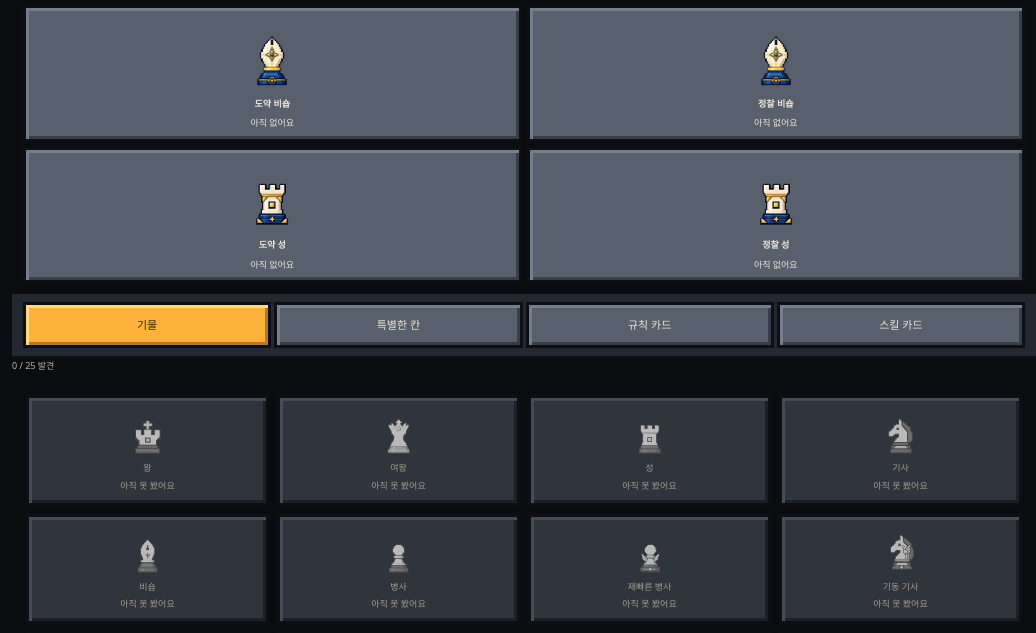
Test: the rules screen can be left › names every group in words a reader can scan
(page scrolled)
Click the button "스킬 카드" at (901,325), box [777,302,1025,348]
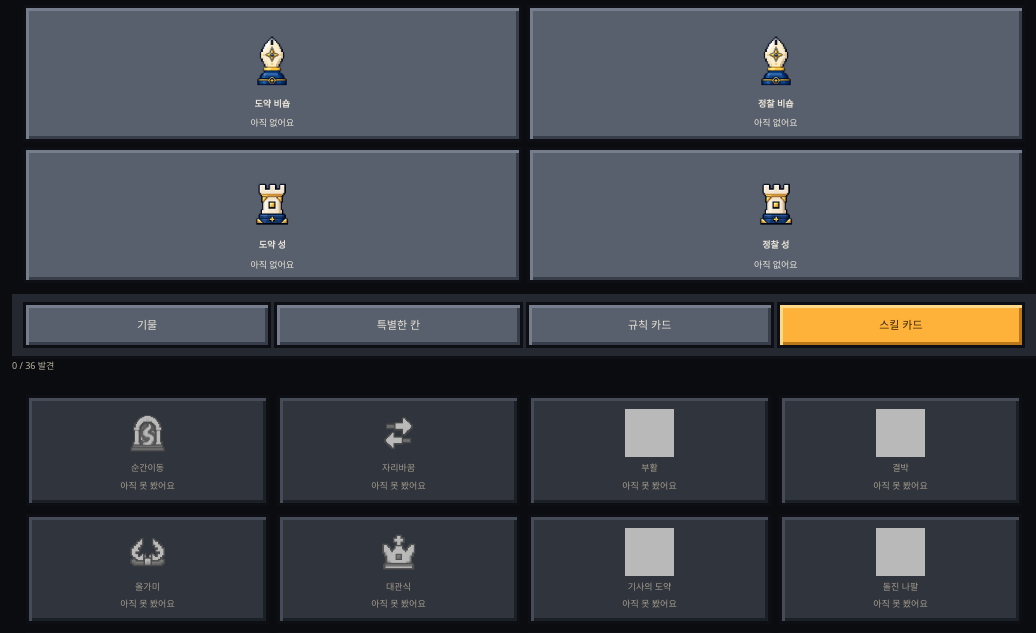
Now the number of list items is 36
Click the button "특별한 칸" at (398,325), box [274,302,523,348]
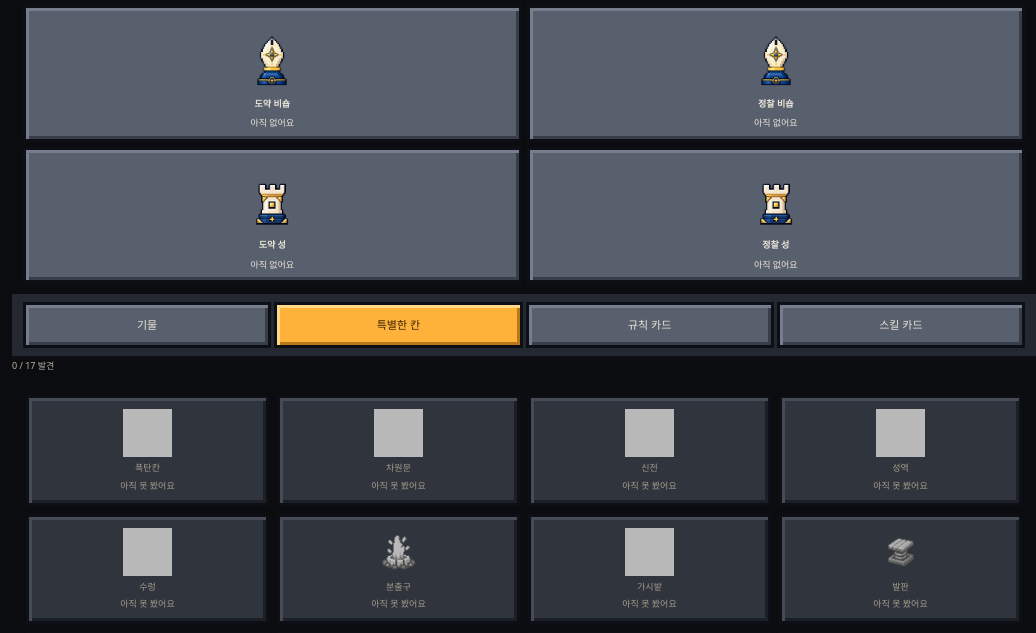
Now the number of list items is 17
